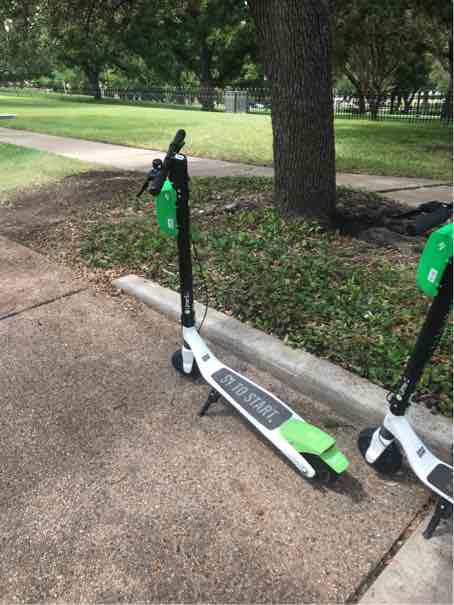scooter: (122, 118, 362, 492)
